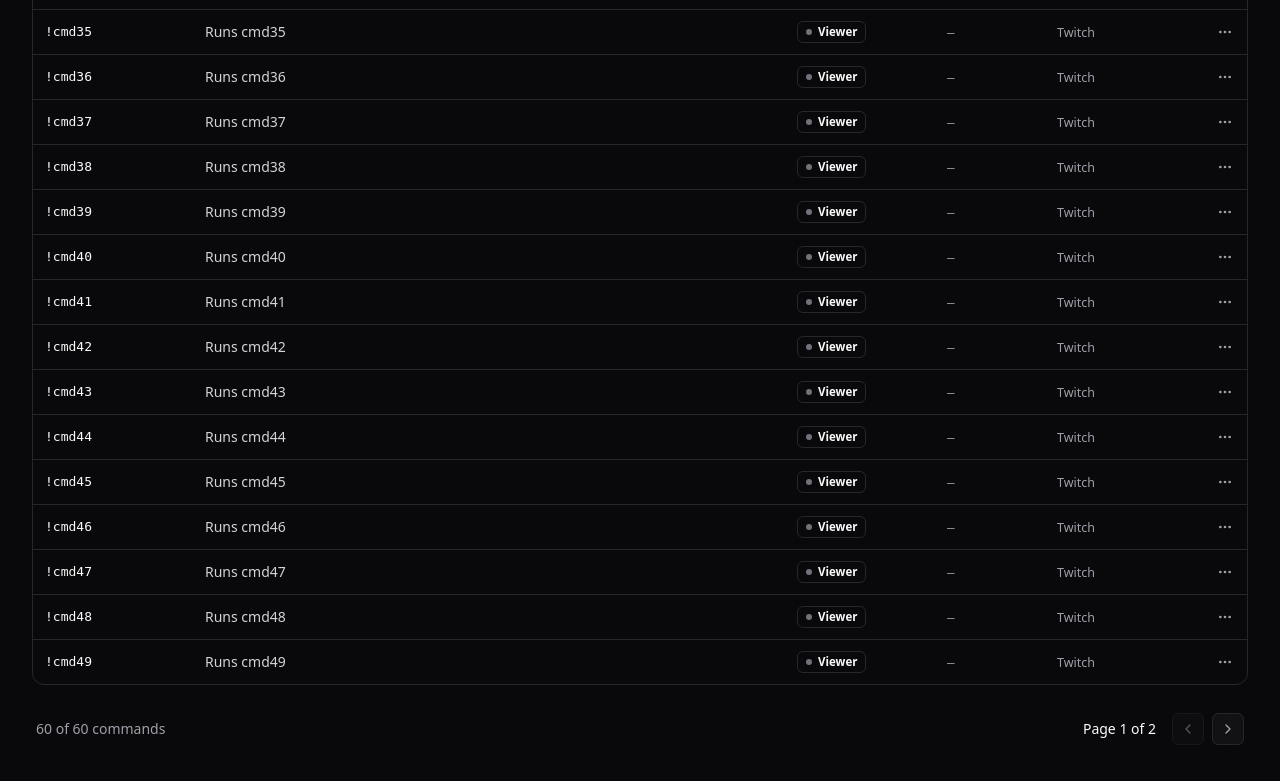
Test: Commands › pages through more than fit on one page
(page scrolled)
Expected: the text "Page 1 of 2" is shown, 1083,719 -> 1156,739
Click the button named "Next page".
click(1228, 729)  # box 1212,713 -> 1244,745
(page scrolled)
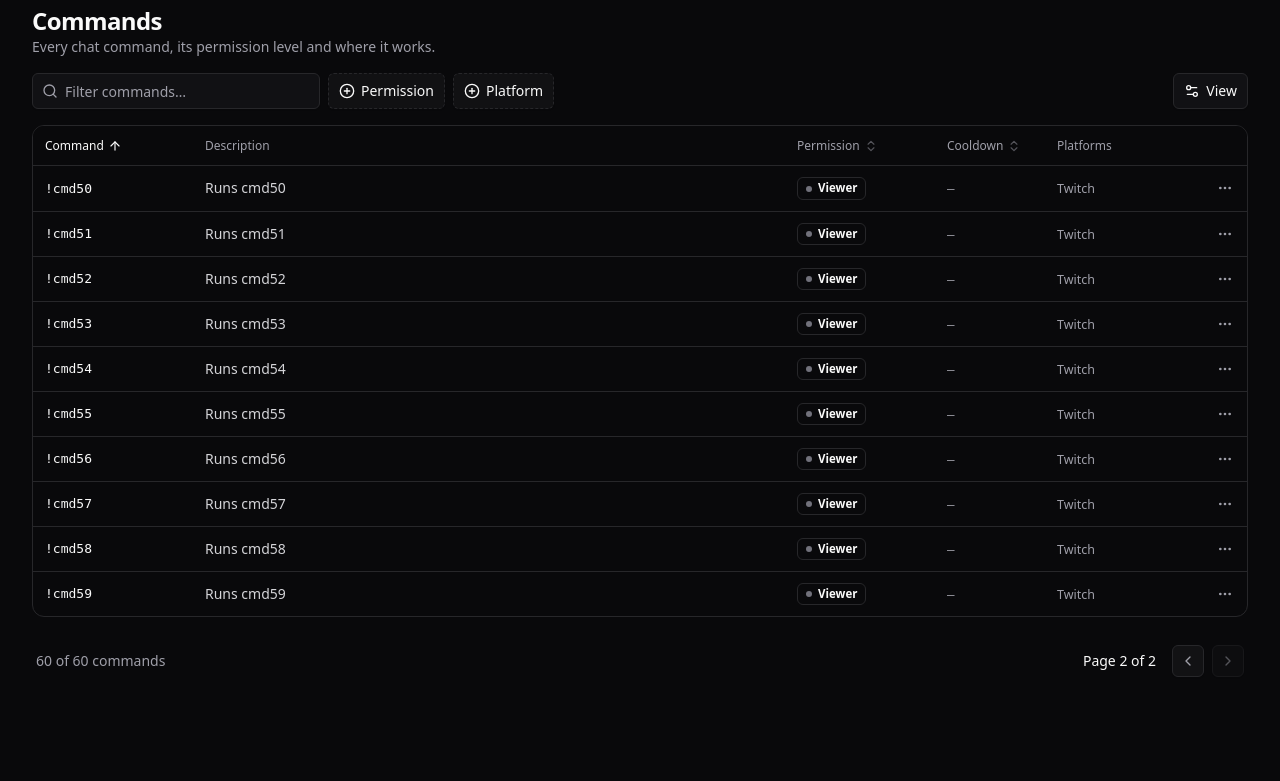
Now the text "Page 2 of 2" is shown, box 1083,651 -> 1156,671
